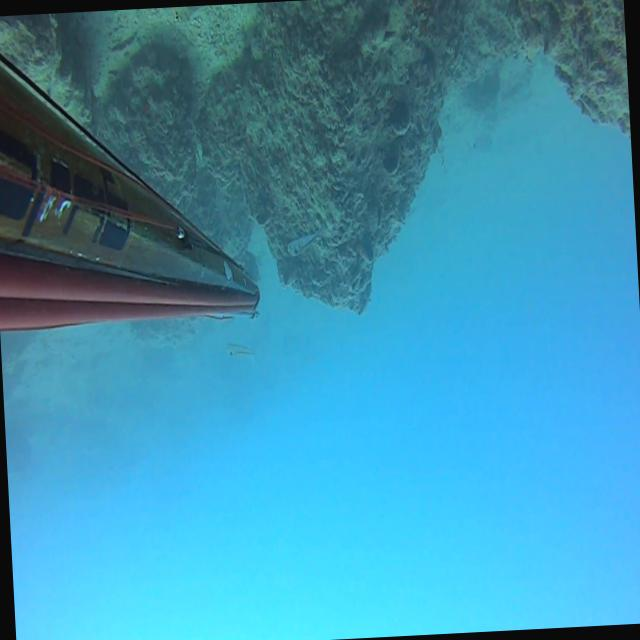Balon Baligi: (287, 226, 326, 257), (174, 6, 206, 24), (226, 342, 258, 358)
